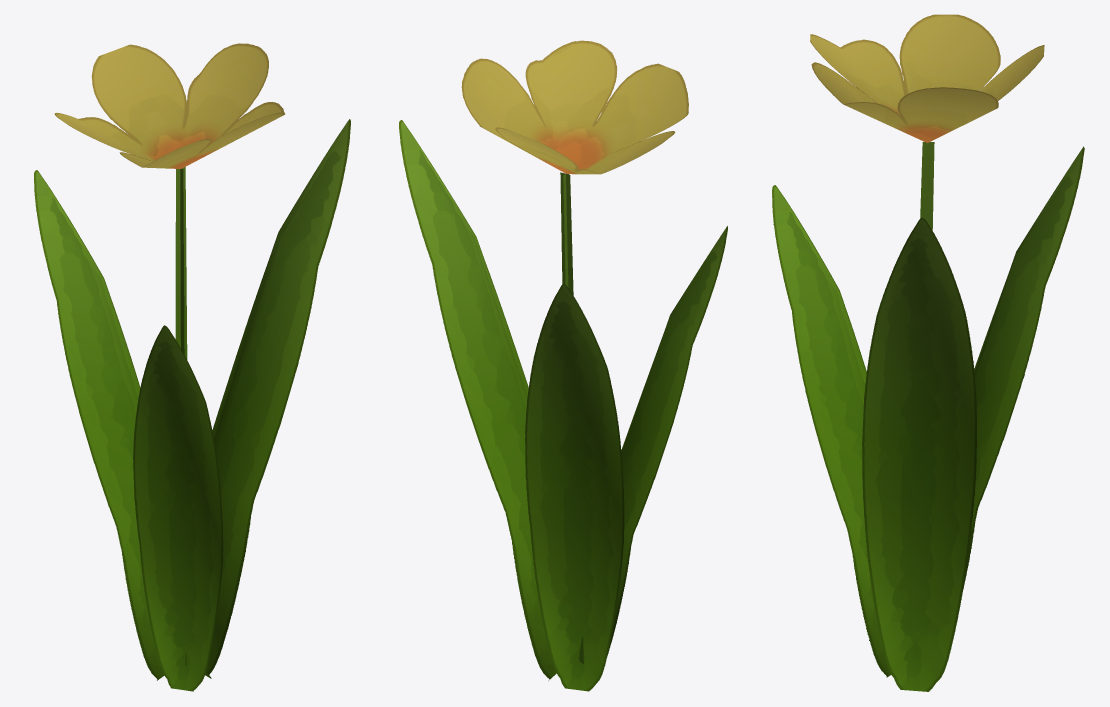
The model's file is SM_flower_01.glb.
The picture shows the model from 3 angles, left to right: view 1: azimuth 30°, elevation 25°; view 2: azimuth 150°, elevation 25°; view 3: azimuth 270°, elevation 25°; orthographic projection. The views are drawn at different scales.
Parts seen in each view (by area): view 1: SM_flower_01; view 2: SM_flower_01; view 3: SM_flower_01.
Part boxes in pixels (x1,y1,x2,y2): SM_flower_01: [34, 43, 350, 691]; SM_flower_01: [399, 40, 727, 691]; SM_flower_01: [772, 14, 1084, 691].
Size of the model in its own units: 0.3354 by 0.6704 by 0.3117.
Materials: 2 (2 with a texture image).
